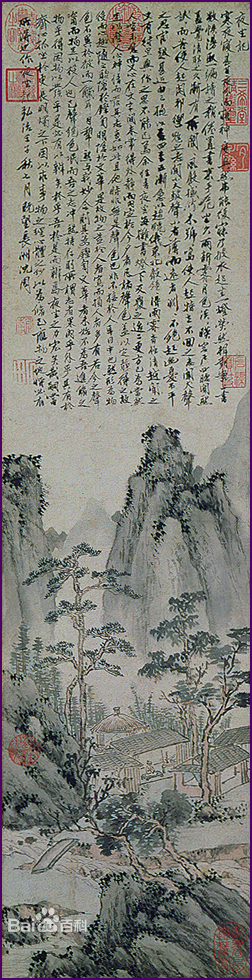bridge: (42, 836, 72, 874)
creek: (201, 862, 252, 889), (64, 855, 108, 878), (17, 842, 40, 860), (149, 866, 174, 876), (114, 861, 129, 869)
hill: (113, 884, 252, 980), (2, 690, 61, 837)
house: (100, 725, 180, 789), (219, 725, 252, 791), (175, 765, 196, 796)
mountain: (124, 435, 251, 589), (3, 452, 52, 565), (7, 575, 37, 631)
pine: (36, 666, 58, 709), (15, 641, 32, 688), (68, 695, 78, 737)
tree: (196, 634, 251, 709), (152, 602, 197, 681), (107, 810, 177, 845), (54, 555, 105, 599), (195, 713, 218, 808), (74, 611, 95, 679), (102, 623, 126, 680), (176, 853, 189, 884), (134, 852, 143, 875)
